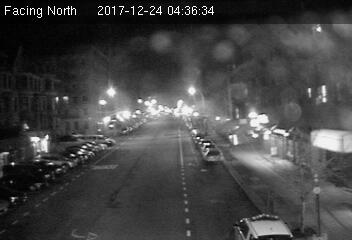car: (201, 147, 223, 164)
police: (232, 210, 293, 240)
